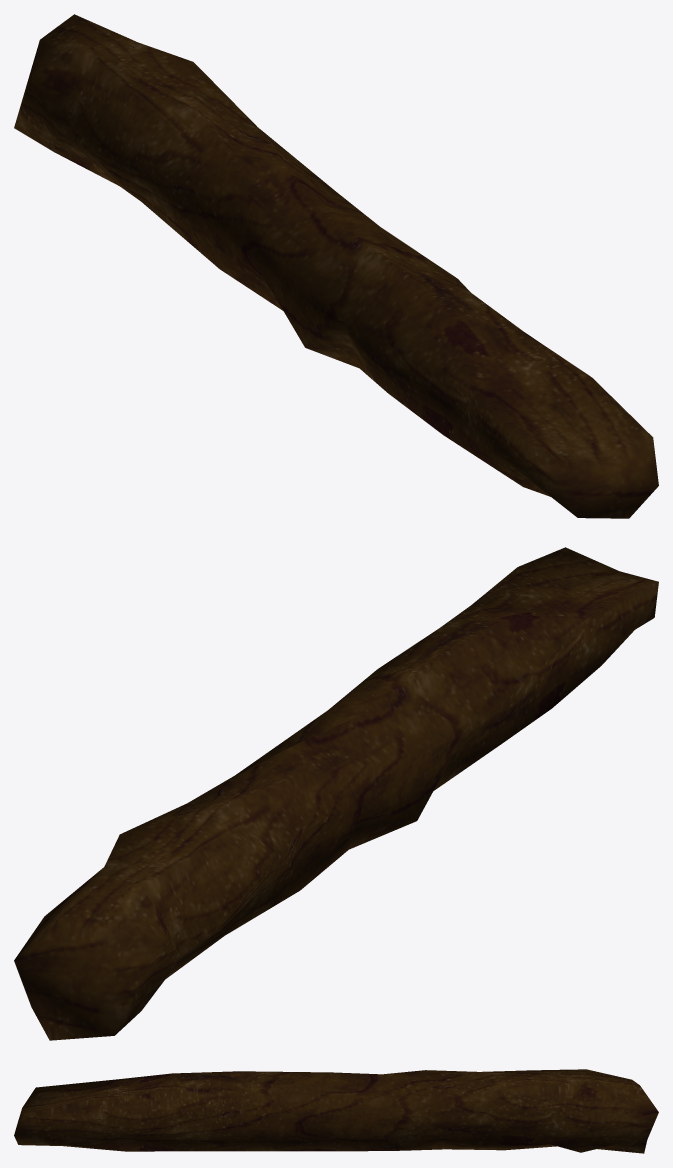
The model's file is SM_Sticks_Small_09.fbx.
The picture shows the model from 3 angles, top to bottom: view 1: azimuth 30°, elevation 25°; view 2: azimuth 150°, elevation 25°; view 3: azimuth 270°, elevation 25°; orthographic projection. The views are drawn at different scales.
Parts seen in each view (by area): view 1: SM_Sticks_Small_09; view 2: SM_Sticks_Small_09; view 3: SM_Sticks_Small_09.
Boxes of the visible parts, x1,y1,x2,y2 form: SM_Sticks_Small_09: (14,14,658,518); SM_Sticks_Small_09: (14,547,658,1040); SM_Sticks_Small_09: (14,1069,658,1153).
Size of the model in its own units: 3.7 by 28.21 by 3.62.
Materials: 1 (1 with a texture image).
